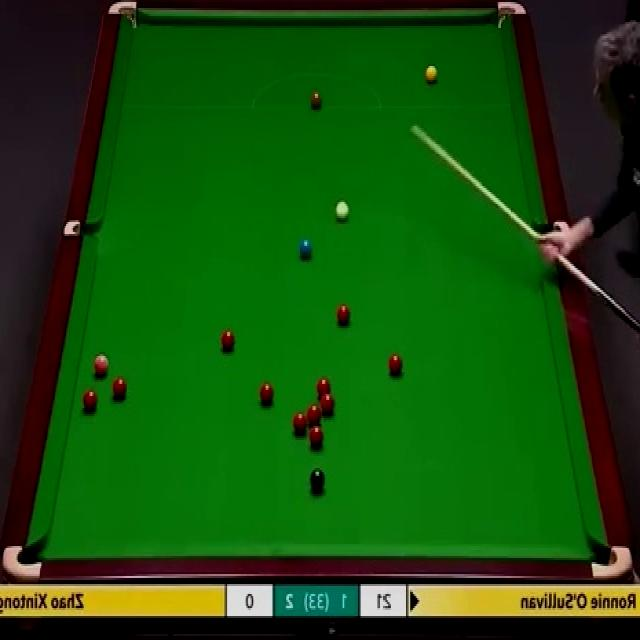black-ball: (310, 468, 326, 489)
blue-ball: (299, 237, 311, 260)
brown-ball: (309, 91, 323, 109)
pink-ball: (93, 353, 110, 381)
red-ball: (257, 380, 274, 408), (334, 305, 352, 326), (84, 388, 99, 413), (292, 410, 307, 434), (113, 376, 129, 398), (221, 328, 235, 352), (389, 353, 403, 377), (321, 393, 334, 418), (305, 407, 321, 427), (310, 426, 324, 448), (317, 378, 331, 399)
white-ball: (334, 199, 349, 222)
yellow-ball: (425, 64, 438, 86)
